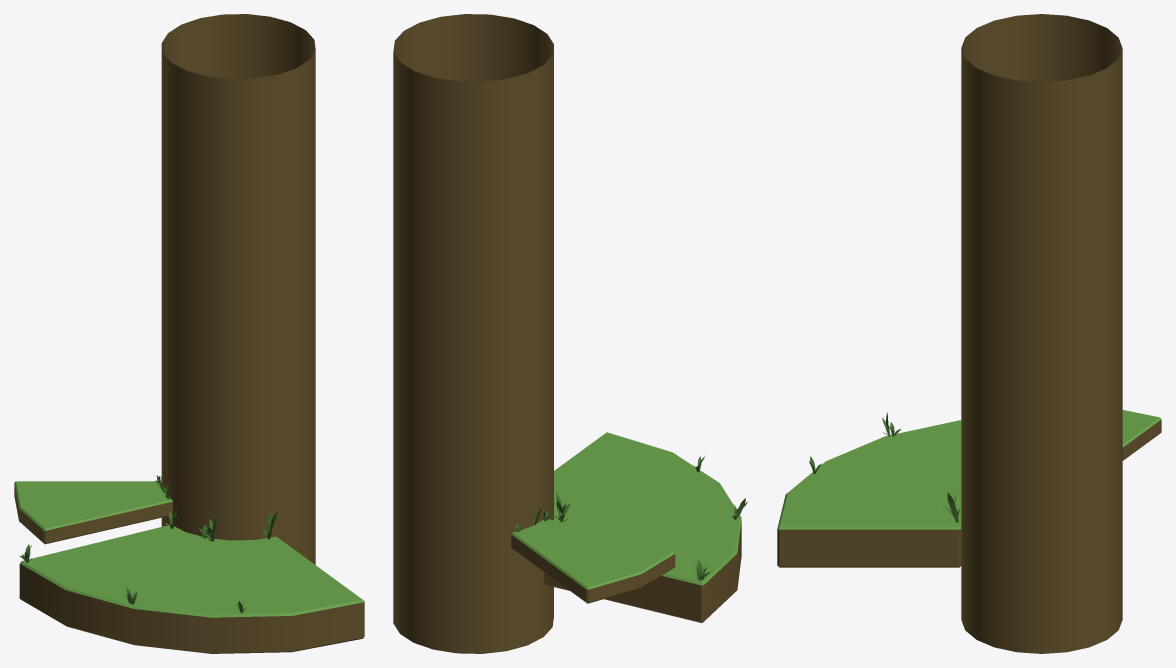
Rendered from Grass.fbx.
3 renders of one model, left to right at view 1: azimuth 30°, elevation 25°; view 2: azimuth 150°, elevation 25°; view 3: azimuth 270°, elevation 25°, orthographic. The views are drawn at different scales.
Parts seen in each view (by area): view 1: GrassSpire, GrassQuarter, GrassStep, GrassQuarterblades; view 2: GrassSpire, GrassQuarter, GrassStep, GrassQuarterblades; view 3: GrassSpire, GrassQuarter, GrassStep.
Boxes of the visible parts, x1=… form: GrassSpire: x1=161, y1=14, x2=315, y2=564; GrassQuarter: x1=19, y1=525, x2=364, y2=653; GrassStep: x1=14, y1=481, x2=172, y2=544; GrassQuarterblades: x1=19, y1=510, x2=277, y2=613; GrassSpire: x1=393, y1=14, x2=553, y2=653; GrassQuarter: x1=544, y1=432, x2=741, y2=622; GrassStep: x1=511, y1=519, x2=675, y2=603; GrassQuarterblades: x1=554, y1=456, x2=747, y2=580; GrassSpire: x1=961, y1=14, x2=1122, y2=653; GrassQuarter: x1=777, y1=420, x2=961, y2=567; GrassStep: x1=1122, y1=410, x2=1161, y2=460.
Bounding box in the file's own units: 477 × 861 × 525.
